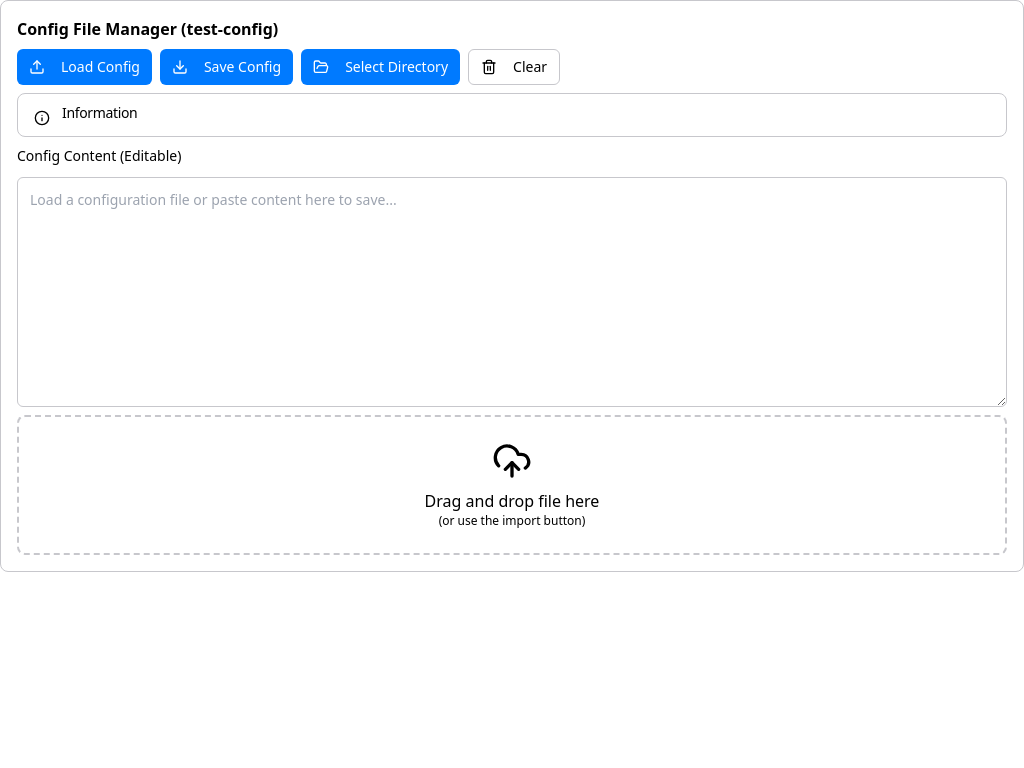
Test: ConfigFileManager Component › Load Button Interactions › should show error message if readFile fails during load
Click the button "Load Config".
click(84, 67)  # box [17, 49, 152, 85]
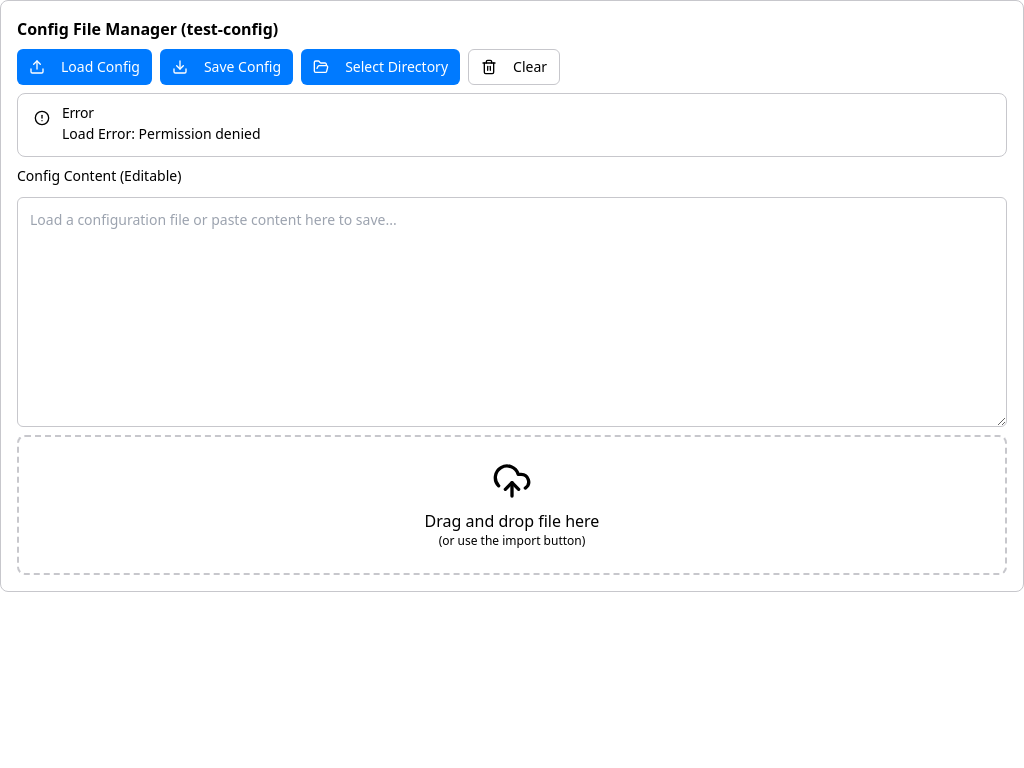
Now the element with test id "status-display" shows "Load Error: Permission denied", box [62, 124, 260, 143]
